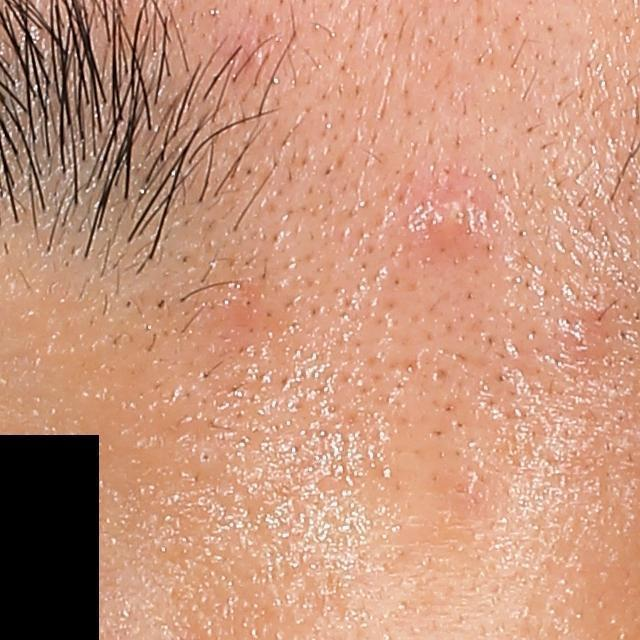comedo: (196, 442, 217, 467)
